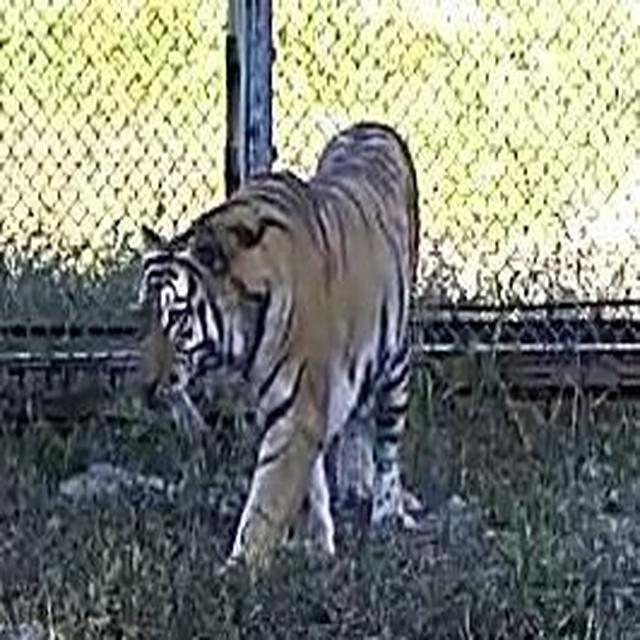tiger: (100, 110, 484, 594)
